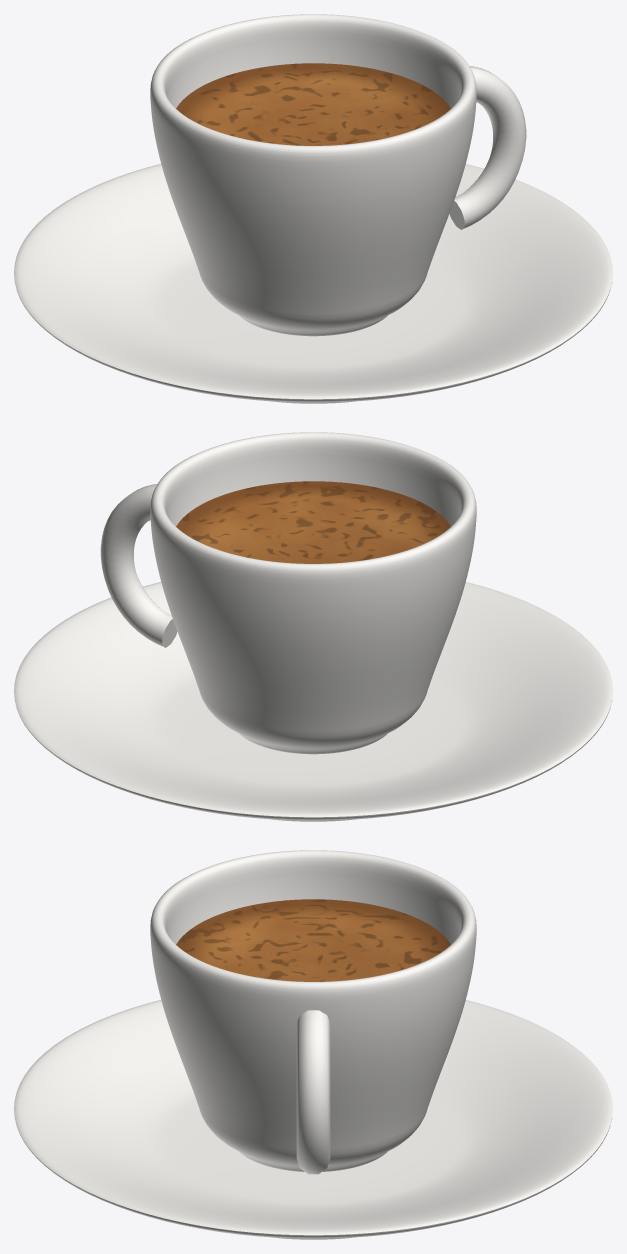
The model's file is espresso.glb.
The picture shows the model from 3 angles, top to bottom: view 1: azimuth 30°, elevation 25°; view 2: azimuth 150°, elevation 25°; view 3: azimuth 270°, elevation 25°; orthographic projection.
Parts seen in each view (by area): view 1: base, crema; view 2: base, crema; view 3: base, crema.
Part boxes in pixels (<box>): base: <box>14,14,612,403</box>; crema: <box>176,63,450,145</box>; base: <box>14,432,612,821</box>; crema: <box>176,481,450,563</box>; base: <box>14,850,612,1239</box>; crema: <box>176,899,450,981</box>.
Size of the model in its own units: 0.1134 by 0.0528 by 0.1134.
Materials: 4 (1 with a texture image).
